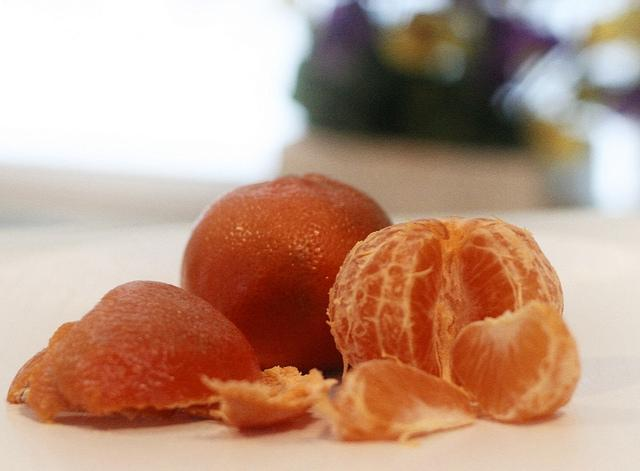mandarin: (180, 172, 394, 372), (326, 212, 564, 390), (450, 300, 580, 424), (331, 360, 482, 448)
